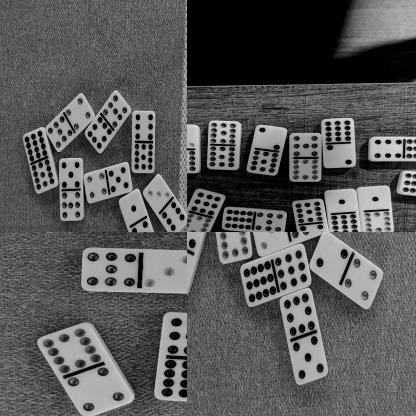pip-1: (118, 189, 145, 221), (357, 186, 390, 211), (324, 189, 356, 214)
pip-10: (36, 323, 102, 374), (216, 232, 250, 264), (288, 158, 322, 182), (361, 211, 392, 232), (187, 212, 212, 232)
pip-11: (30, 159, 58, 196), (246, 151, 281, 176), (291, 198, 324, 224), (207, 122, 241, 146), (206, 146, 239, 170), (131, 142, 155, 173), (187, 150, 199, 175)
pip-12: (239, 260, 276, 308), (152, 359, 187, 402), (320, 119, 355, 144), (22, 129, 46, 163), (221, 207, 253, 231), (328, 213, 359, 232), (397, 170, 416, 195), (403, 137, 416, 162)
pip-2: (308, 232, 347, 289), (321, 144, 355, 168), (256, 126, 287, 152), (187, 232, 207, 251)
pip-3: (140, 249, 187, 294), (142, 175, 170, 211), (249, 232, 286, 258), (187, 125, 198, 150)
pip-4: (66, 368, 134, 416), (344, 259, 382, 310), (66, 93, 93, 132), (83, 171, 106, 206)
pip-5: (291, 336, 328, 386), (107, 162, 132, 197), (58, 158, 82, 191), (129, 218, 156, 232)
pip-6: (369, 136, 403, 162), (161, 201, 187, 232), (132, 111, 156, 144), (297, 224, 328, 232)
pip-7: (80, 248, 140, 292), (102, 91, 130, 130), (45, 116, 72, 154), (288, 133, 321, 158), (252, 209, 286, 232)
pip-8: (279, 288, 316, 338), (84, 116, 111, 155)
pip-9: (274, 244, 310, 295), (161, 313, 187, 358), (189, 189, 225, 216)
